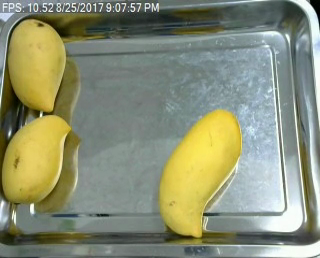Mango: (154, 107, 242, 241), (0, 111, 70, 206), (5, 18, 68, 114)
